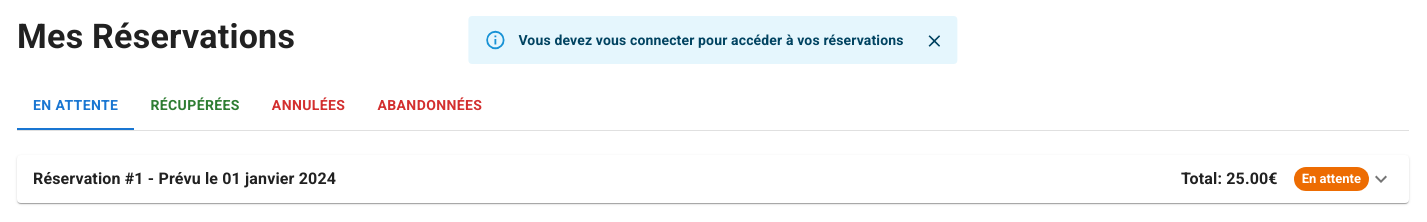
it: ReservationsPage › handles close of snackbar
Check: the text "Vous devez vous connecter pour accéder à vos réservations" is shown, box x1=518 y1=32 x2=904 y2=48
Click the button named "Close" at (935, 41), box x1=920 y1=26 x2=950 y2=56
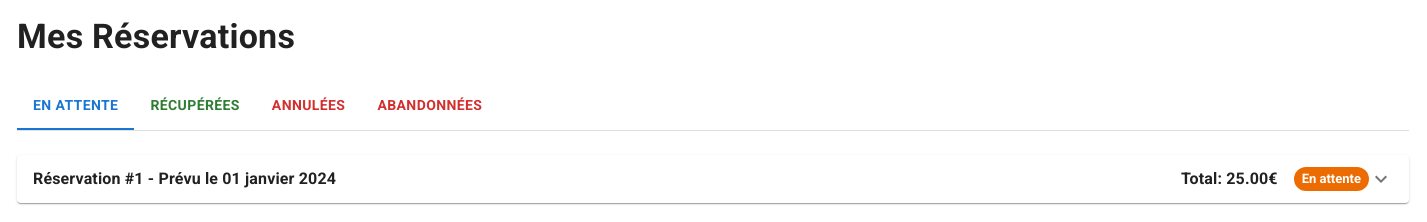
Check: the text "Vous devez vous connecter pour accéder à vos réservations" is gone
